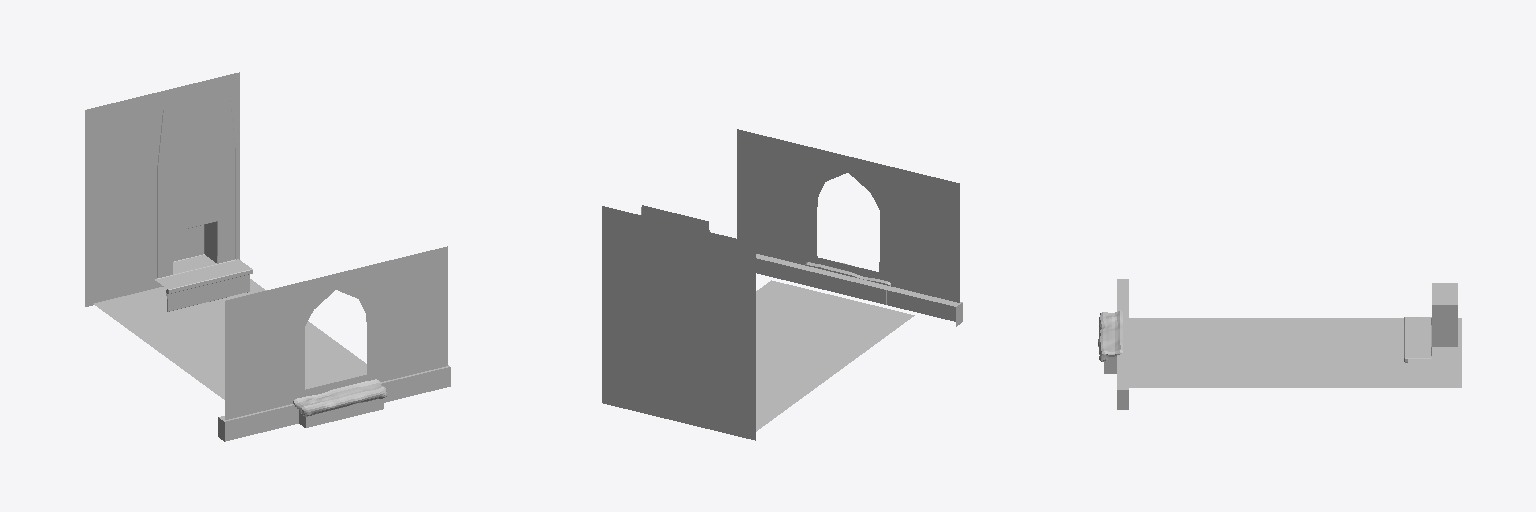
File: big stuff christmas.obj
3 renders of one model, left to right at view 1: azimuth 30°, elevation 25°; view 2: azimuth 150°, elevation 25°; view 3: azimuth 270°, elevation 25°, orthographic.
Visible parts, largest first — view 1: brickwall big_stuff, big_stuff wallback, big_stuff fireplace, big_stuff floor, big_stuff wall_accent, big_stuff snow, big_stuff troft, defaultHideFaceDataSet fireplaceShapeHiddenFacesSet big_stuff fi; view 2: big_stuff wallback, brickwall big_stuff, big_stuff floor, big_stuff wall_accent, big_stuff fireplace; view 3: big_stuff floor, big_stuff fireplace, big_stuff wall_accent, big_stuff snow.
Part boxes in pixels (x1,y1,x2,y2): brickwall big_stuff: (225, 246, 447, 419); big_stuff wallback: (85, 72, 239, 306); big_stuff fireplace: (154, 94, 252, 311); big_stuff floor: (94, 279, 366, 399); big_stuff wall_accent: (218, 365, 450, 441); big_stuff snow: (293, 379, 386, 416); big_stuff troft: (299, 398, 383, 427); defaultHideFaceDataSet fireplaceShapeHiddenFacesSet big_stuff fi: (173, 225, 203, 261); big_stuff wallback: (602, 206, 755, 440); brickwall big_stuff: (737, 129, 959, 321); big_stuff floor: (756, 280, 914, 431); big_stuff wall_accent: (756, 254, 962, 326); big_stuff fireplace: (641, 205, 709, 231); big_stuff floor: (1129, 318, 1461, 387); big_stuff fireplace: (1404, 283, 1457, 362); big_stuff wall_accent: (1117, 279, 1128, 409); big_stuff snow: (1098, 310, 1122, 361).
Size of the model in its own units: 25.66 by 21.42 by 35.88.